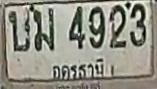2: (108, 3, 125, 48)
3: (129, 3, 145, 46)
4: (68, 6, 84, 48)
9: (88, 6, 104, 48)
A26: (8, 10, 31, 51)
A33: (32, 7, 54, 50)
UDN: (49, 57, 107, 82)
